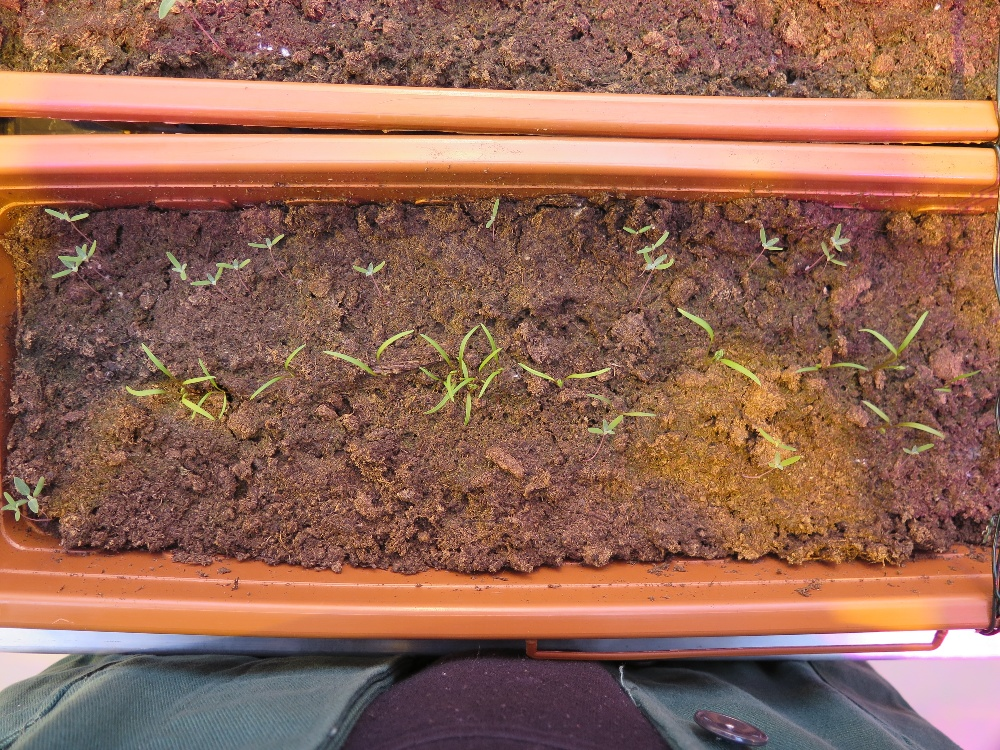crop: (412, 317, 505, 440), (114, 333, 218, 422), (237, 340, 332, 433), (668, 304, 766, 390), (309, 317, 418, 379), (866, 395, 966, 461), (173, 354, 250, 436), (427, 354, 507, 420), (514, 349, 616, 397), (866, 311, 943, 372), (775, 340, 868, 390), (918, 361, 977, 406), (743, 417, 800, 456), (612, 401, 680, 426)
weed: (605, 215, 698, 308), (155, 238, 259, 311), (732, 211, 793, 279), (2, 461, 57, 533), (50, 238, 107, 304), (232, 224, 309, 270), (464, 188, 521, 245), (814, 215, 866, 276), (341, 251, 402, 297), (50, 197, 107, 245), (750, 442, 806, 488), (576, 408, 626, 453), (147, 1, 215, 34)
